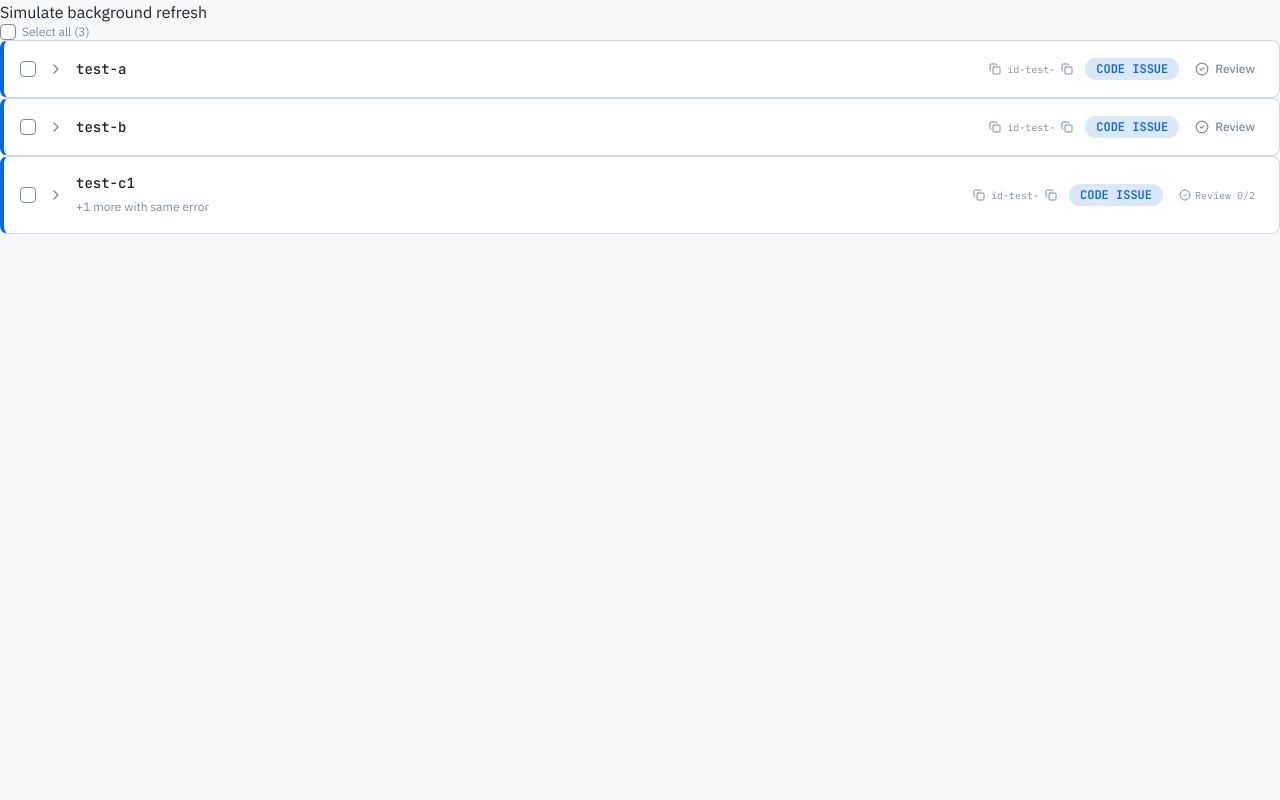
Test: bulk failure selection › bulk-marks individual selections as reviewed and clears the selection
Click the checkbox named "Select test-a": (28, 69) [20,61,36,77]
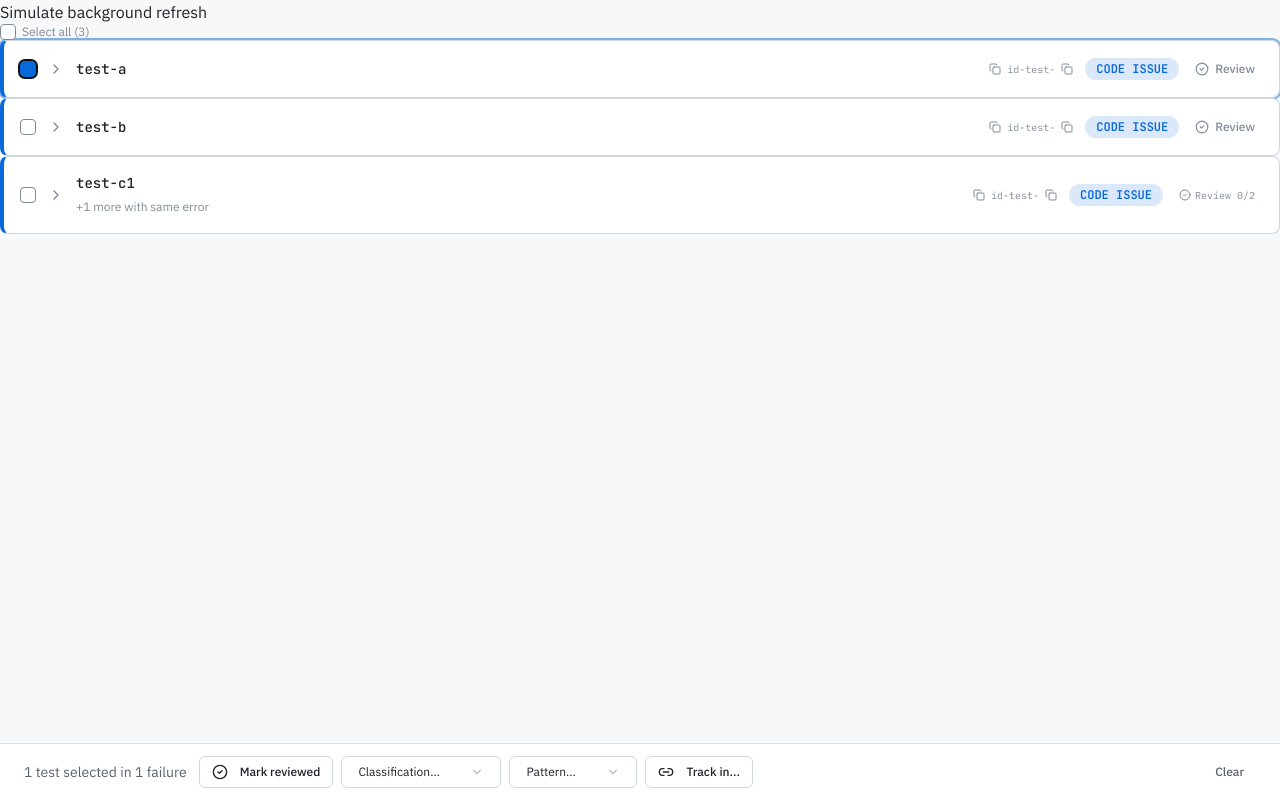
Click the checkbox named "Select test-b": (28, 127) [20,119,36,135]
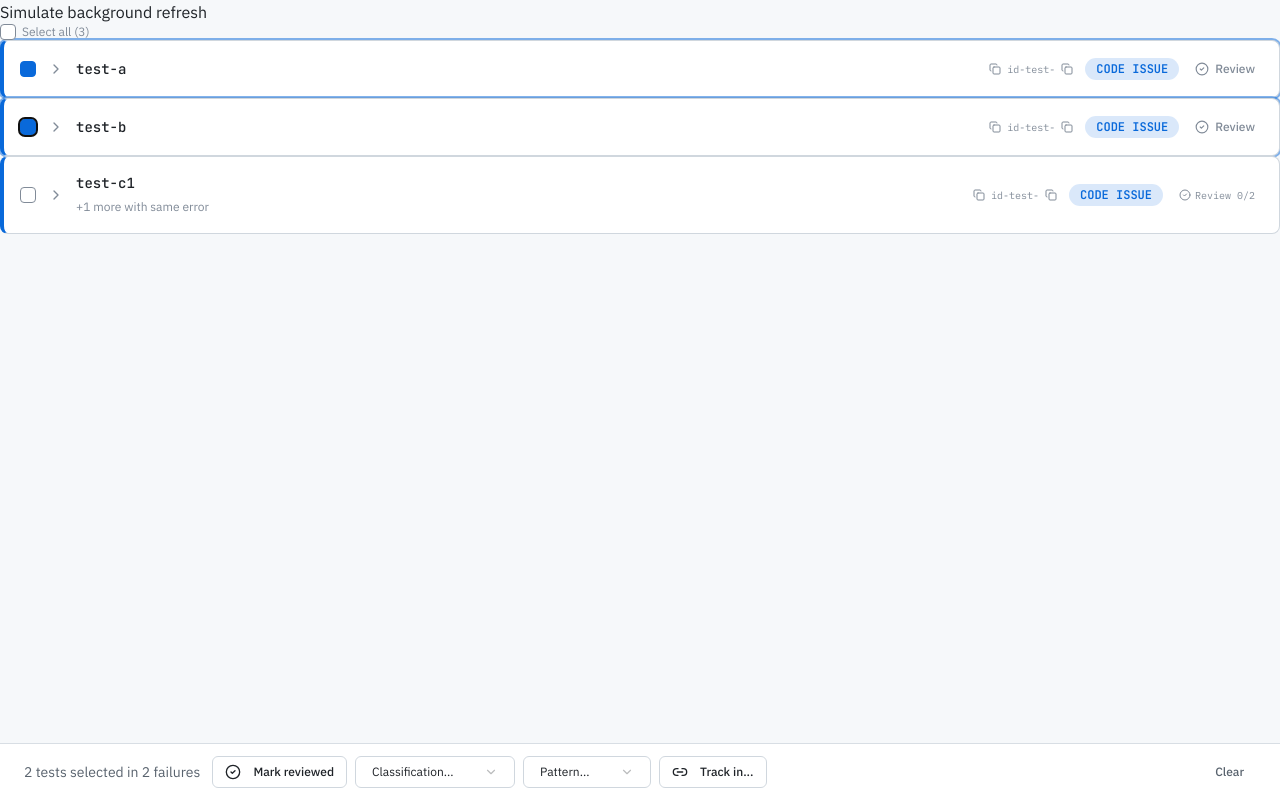
A selected group covers every test that shares its error signature.
Click the checkbox named "Select test-c1": (28, 195) [20,187,36,203]
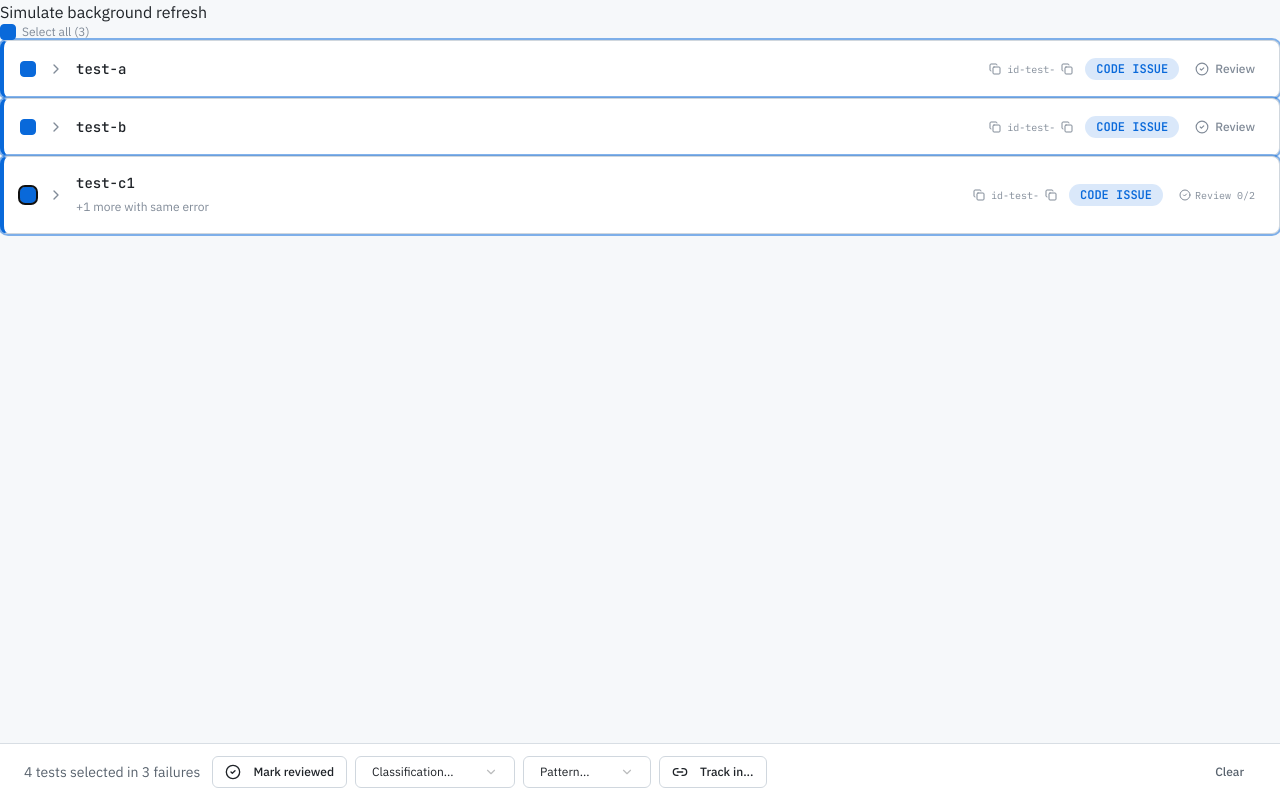
Check: the text "4 tests selected in 3 failures" is shown, box [24,762,200,782]
The confirmation states the scope of the bulk action.
Click the button "Mark reviewed": (280, 772) [212,756,347,788]
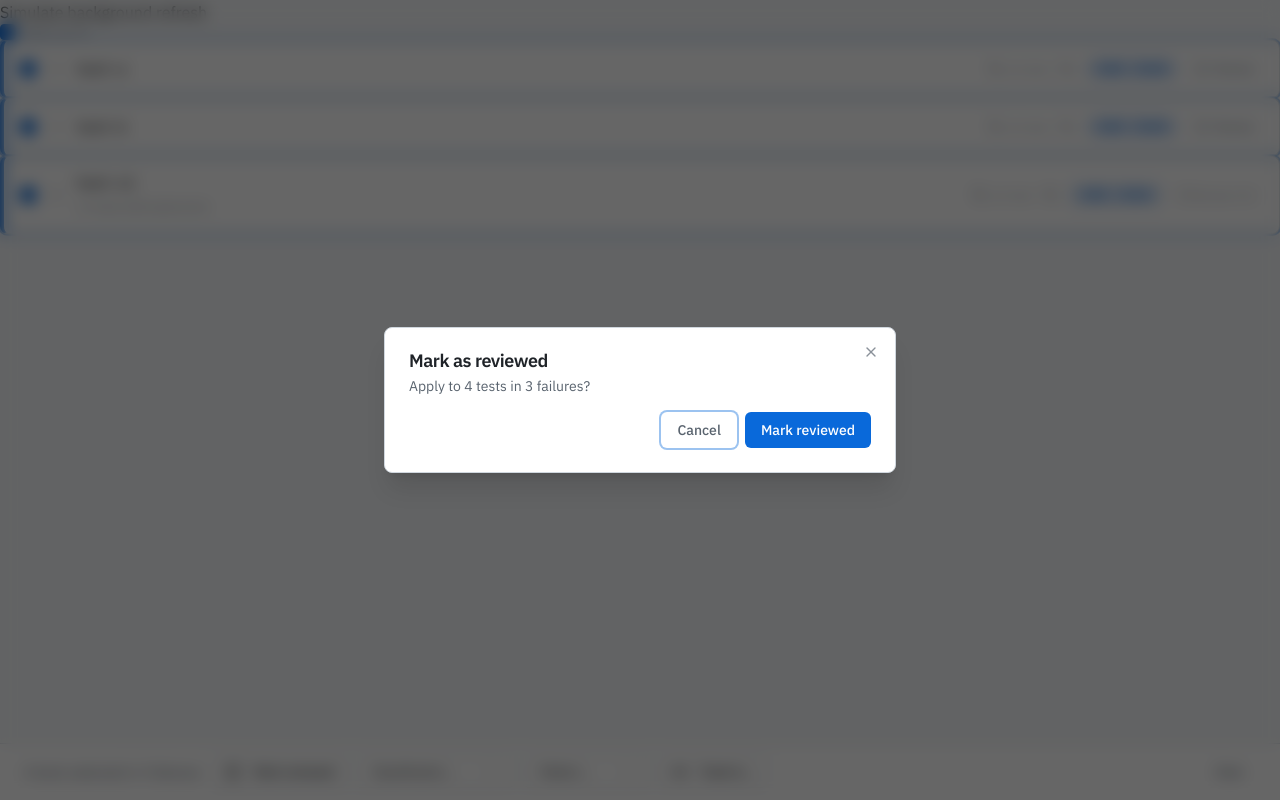
Check: the dialog shows "Apply to 4 tests in 3 failures?", box [409,377,590,395]
Click the button "Mark reviewed": (808, 430) [745,412,871,448]
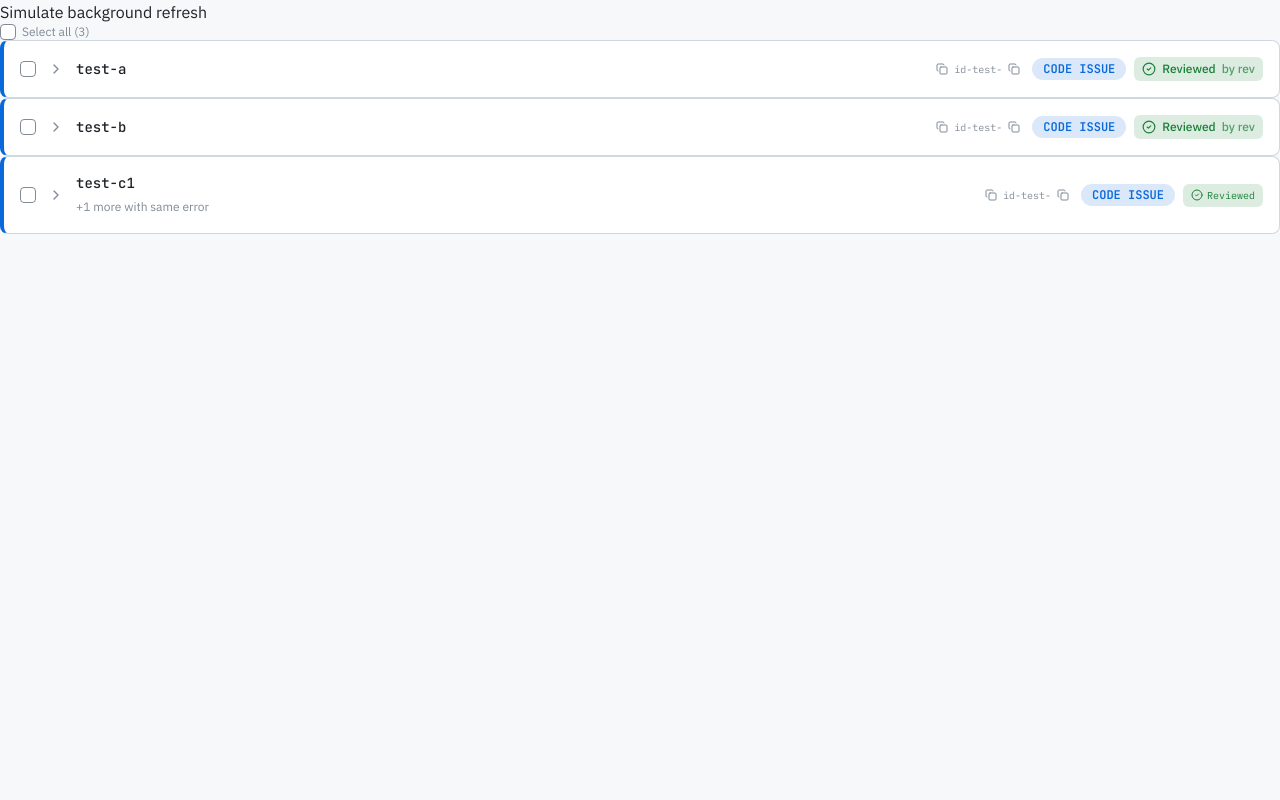
Check: the text "selected in" is gone
